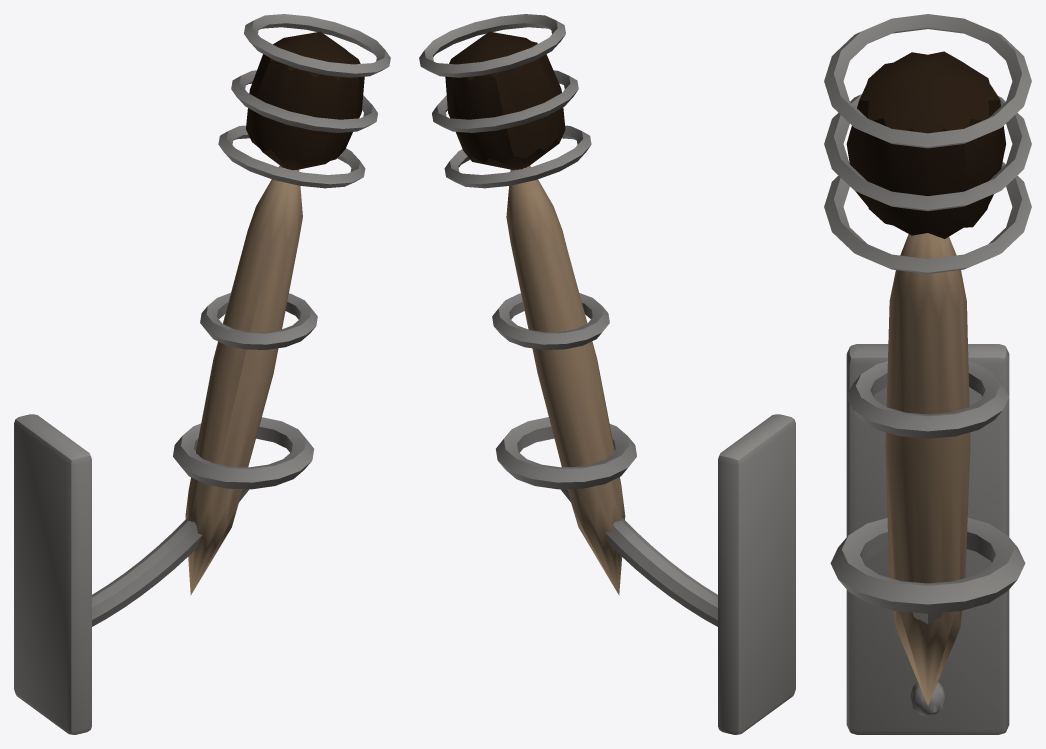
The model's file is obj_kit_torch.glb.
3 views of the same model, side by side, from view 1: azimuth 30°, elevation 25°; view 2: azimuth 150°, elevation 25°; view 3: azimuth 270°, elevation 25° (orthographic). The views are drawn at different scales.
Parts seen in each view (by area): view 1: Cube, Cylinder, Cylinder.001, Torus, Torus.004, arm, Torus.001, Torus.002, Torus.003; view 2: Cube, Cylinder, Cylinder.001, Torus, Torus.004, arm, Torus.001, Torus.002, Torus.003; view 3: Cube, Cylinder, Cylinder.001, Torus, Torus.004, Torus.001, Torus.003, Torus.002, Sphere.
Part boxes in pixels (left/top/right/bottom): Cube: left=14, top=414, right=91, bottom=734; Cylinder: left=185, top=165, right=302, bottom=595; Cylinder.001: left=246, top=31, right=364, bottom=170; Torus: left=173, top=417, right=313, bottom=489; Torus.004: left=244, top=14, right=390, bottom=77; arm: left=92, top=489, right=249, bottom=626; Torus.001: left=200, top=293, right=317, bottom=349; Torus.002: left=218, top=125, right=365, bottom=188; Torus.003: left=231, top=70, right=377, bottom=132; Cube: left=718, top=414, right=795, bottom=734; Cylinder: left=506, top=165, right=625, bottom=595; Cylinder.001: left=445, top=31, right=565, bottom=169; Torus: left=496, top=417, right=636, bottom=489; Torus.004: left=419, top=14, right=565, bottom=77; arm: left=560, top=489, right=717, bottom=626; Torus.001: left=492, top=293, right=609, bottom=349; Torus.002: left=444, top=125, right=591, bottom=188; Torus.003: left=432, top=70, right=578, bottom=132; Cube: left=846, top=344, right=1009, bottom=734; Cylinder: left=885, top=233, right=970, bottom=705; Cylinder.001: left=846, top=51, right=1005, bottom=238; Torus: left=830, top=518, right=1025, bottom=613; Torus.004: left=824, top=14, right=1031, bottom=148; Torus.001: left=847, top=361, right=1008, bottom=438; Torus.003: left=824, top=94, right=1031, bottom=211; Torus.002: left=824, top=162, right=1031, bottom=273; Sphere: left=910, top=682, right=945, bottom=716.
Bounding box in the file's own units: 0.3308 × 0.5811 × 0.128.
